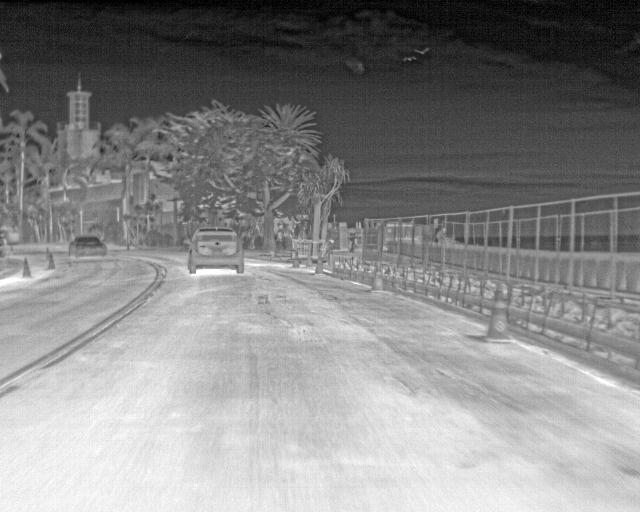car: (180, 225, 244, 275), (66, 234, 108, 259)
